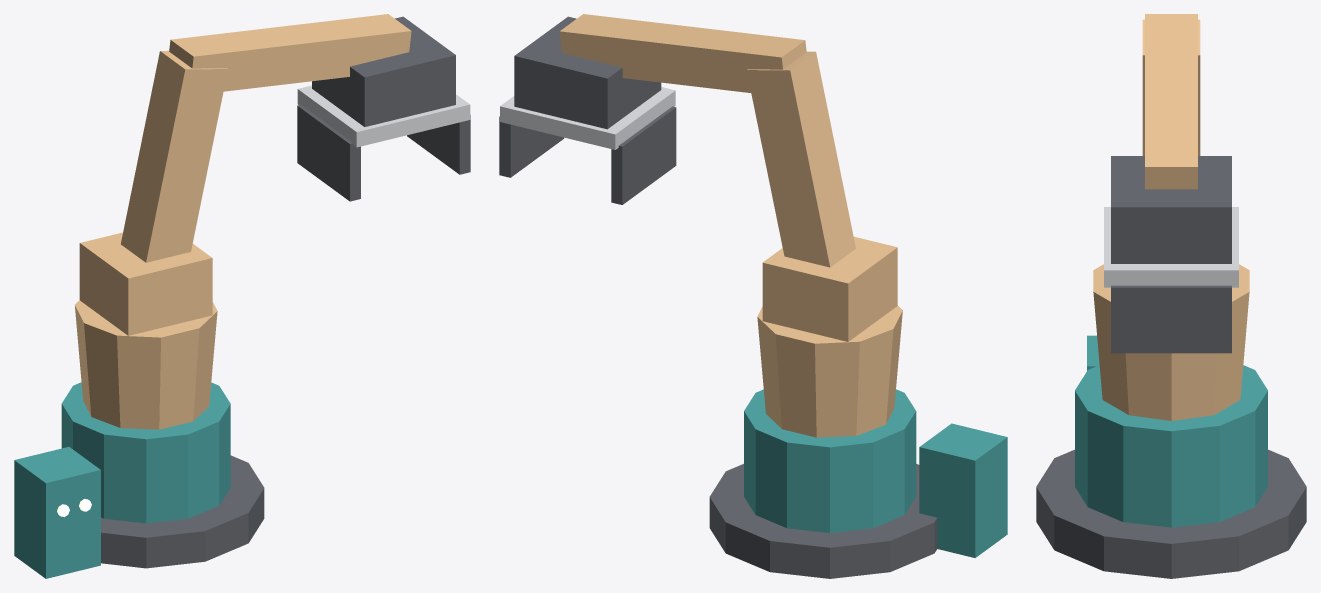
Rendered from chocolate-and-confectionery-factory-palletiser-arm-34434855__36787.glb.
The picture shows the model from 3 angles, left to right: view 1: azimuth 30°, elevation 25°; view 2: azimuth 150°, elevation 25°; view 3: azimuth 270°, elevation 25°; orthographic projection. The views are drawn at different scales.
Visible parts, largest first — view 1: swing-palletiser/candy, palletiser-arm, swing-palletiser/dark, swing-palletiser/steel; view 2: swing-palletiser/candy, palletiser-arm, swing-palletiser/dark, swing-palletiser/steel; view 3: palletiser-arm, swing-palletiser/candy, swing-palletiser/dark, swing-palletiser/steel.
Part boxes in pixels (box(x1,y1,x2,y2)): swing-palletiser/candy: box(75, 14, 411, 429); palletiser-arm: box(14, 382, 264, 578); swing-palletiser/dark: box(297, 16, 470, 201); swing-palletiser/steel: box(297, 85, 470, 147); swing-palletiser/candy: box(559, 14, 902, 437); palletiser-arm: box(709, 389, 1007, 578); swing-palletiser/dark: box(499, 16, 676, 204); swing-palletiser/steel: box(500, 87, 675, 149); palletiser-arm: box(1036, 335, 1306, 578); swing-palletiser/candy: box(1093, 14, 1249, 420); swing-palletiser/dark: box(1111, 156, 1231, 353); swing-palletiser/steel: box(1104, 207, 1238, 287).
Bounding box in the file's own units: 2.38 × 2.41 × 1.12.
